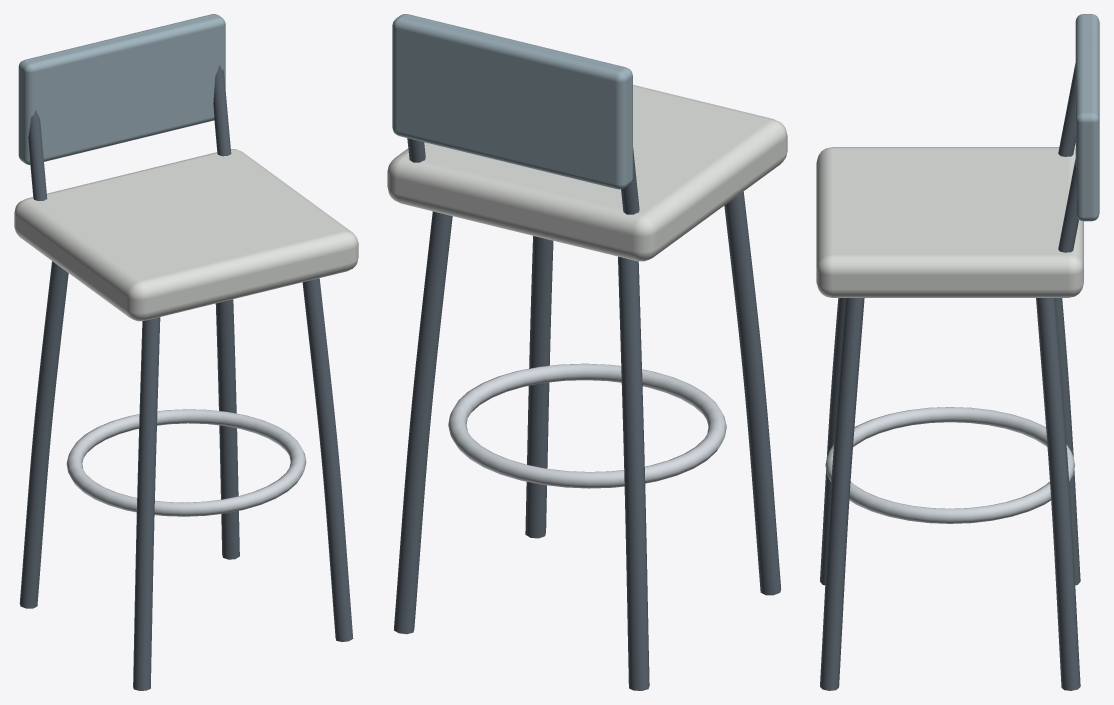
Rendered from bar-stool.glb.
The picture shows the model from 3 angles, left to right: view 1: azimuth 30°, elevation 25°; view 2: azimuth 150°, elevation 25°; view 3: azimuth 270°, elevation 25°; orthographic projection. The views are drawn at different scales.
Parts seen in each view (by area): view 1: bar-stool; view 2: bar-stool; view 3: bar-stool.
Part boxes in pixels (x1,y1,x2,y2): bar-stool: [14, 14, 358, 690]; bar-stool: [387, 14, 787, 690]; bar-stool: [816, 14, 1099, 690].
Size of the model in its own units: 0.44 by 0.98 by 0.44.
